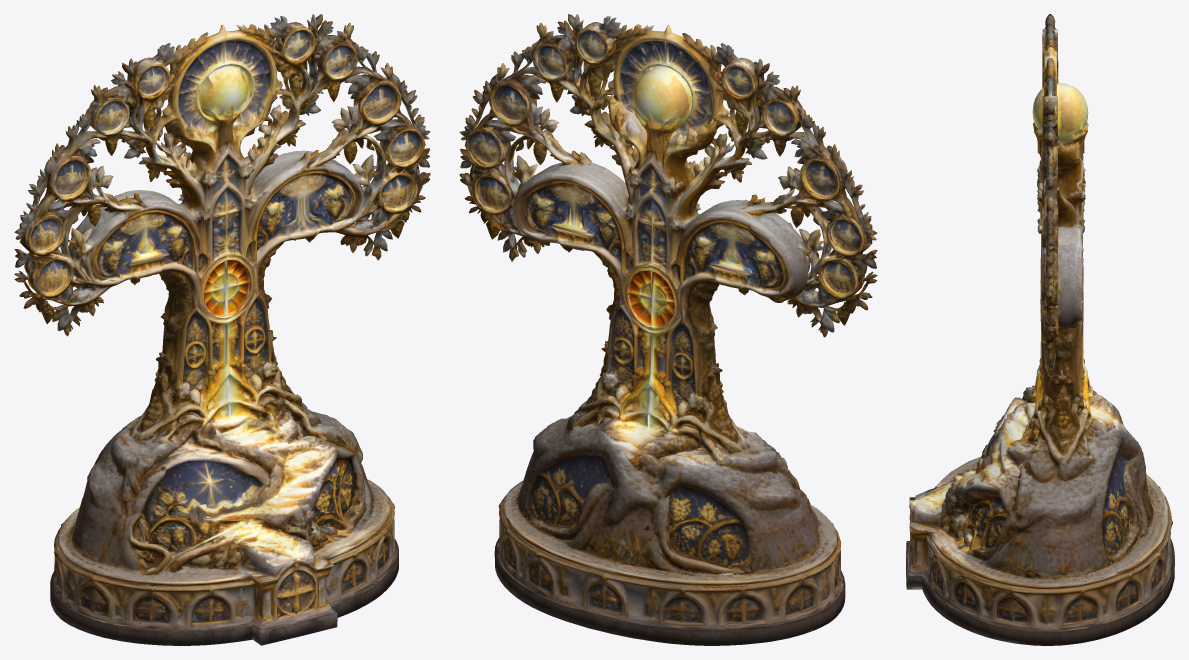
File: Symbolic_Tree_VR_1K.glb
3 views of the same model, side by side, from view 1: azimuth 30°, elevation 25°; view 2: azimuth 150°, elevation 25°; view 3: azimuth 270°, elevation 25° (orthographic). The views are drawn at different scales.
Visible parts, largest first — view 1: Symbolic_Tree; view 2: Symbolic_Tree; view 3: Symbolic_Tree.
Boxes of the visible parts, x1,y1,x2,y2 form: Symbolic_Tree: (14,14,430,645); Symbolic_Tree: (459,14,877,645); Symbolic_Tree: (906,14,1174,645).
Bounding box in the file's own units: 0.8031 × 1.03 × 0.4768.
Materials: 1 (1 with a texture image).
